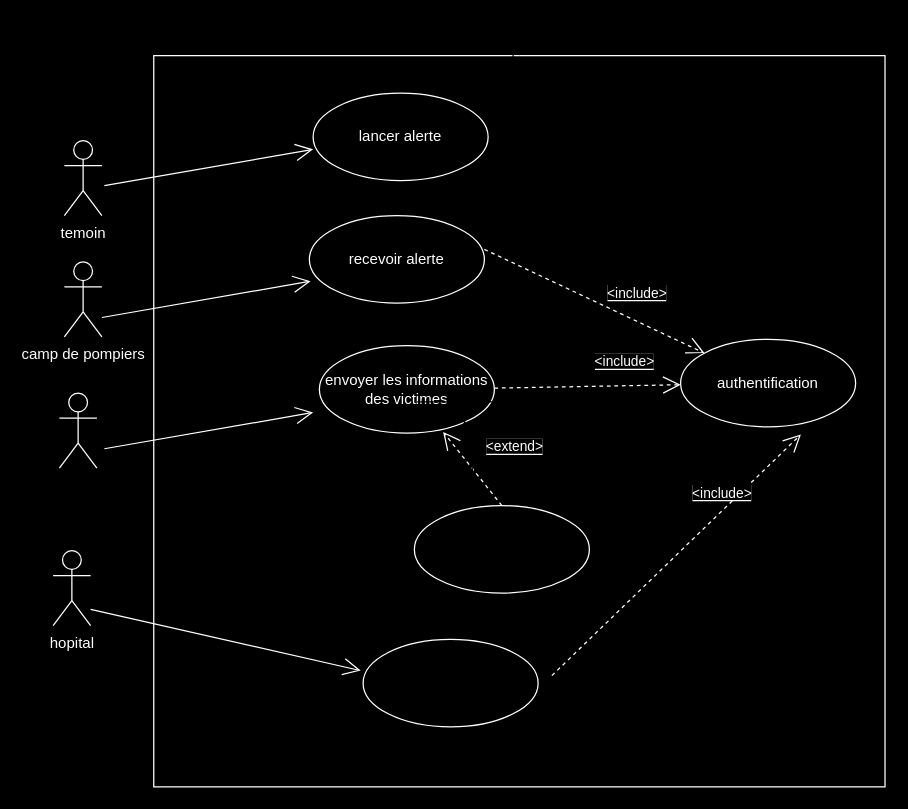
The diagram is 908 pixels wide and 809 high, and some of its shapes have lost their labels. Each missing label, with the box of its shape:
demander une prise en chage: (413, 504, 589, 593)
pompiers: (58, 392, 97, 468)
traiter une demande de prise en charge: (362, 638, 538, 727)
